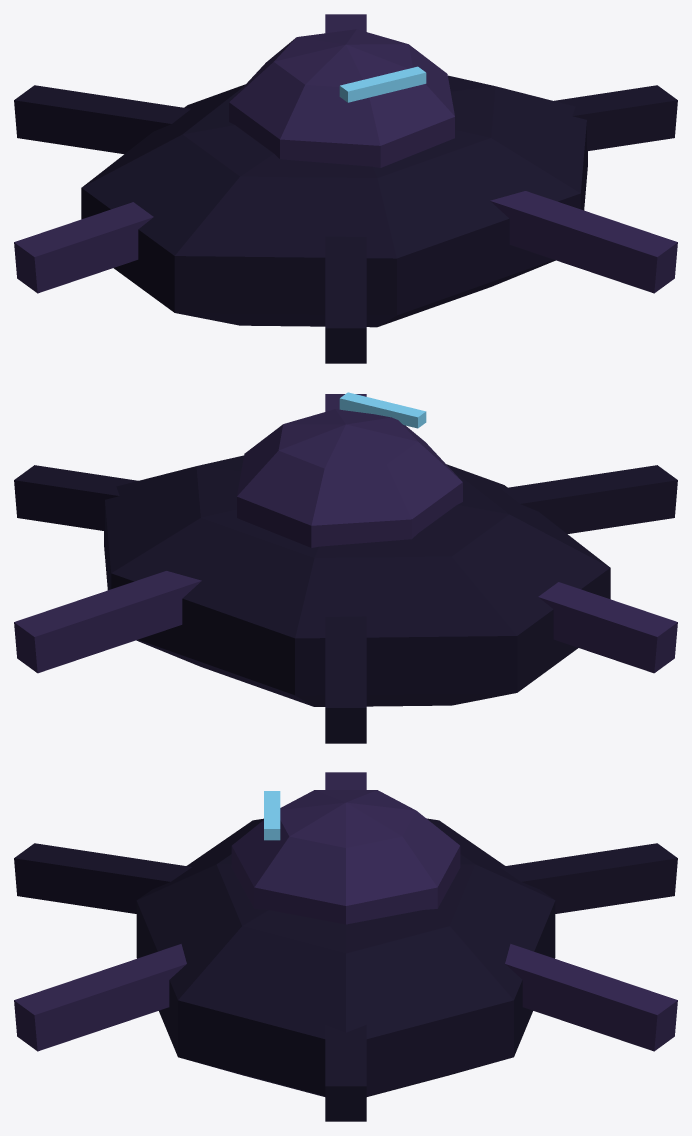
File: frost_thorn_root_retracted.glb
3 views of the same model, one above another, from view 1: azimuth 30°, elevation 25°; view 2: azimuth 150°, elevation 25°; view 3: azimuth 270°, elevation 25° (orthographic).
Parts seen in each view (by area): view 1: frost_thorn_root_retracted; view 2: frost_thorn_root_retracted; view 3: frost_thorn_root_retracted.
Boxes of the visible parts, left/top/right/bottom form: frost_thorn_root_retracted: left=14, top=14, right=677, bottom=363; frost_thorn_root_retracted: left=14, top=392, right=677, bottom=743; frost_thorn_root_retracted: left=14, top=772, right=677, bottom=1121.
Size of the model in its own units: 1.81 by 0.6575 by 1.62.
